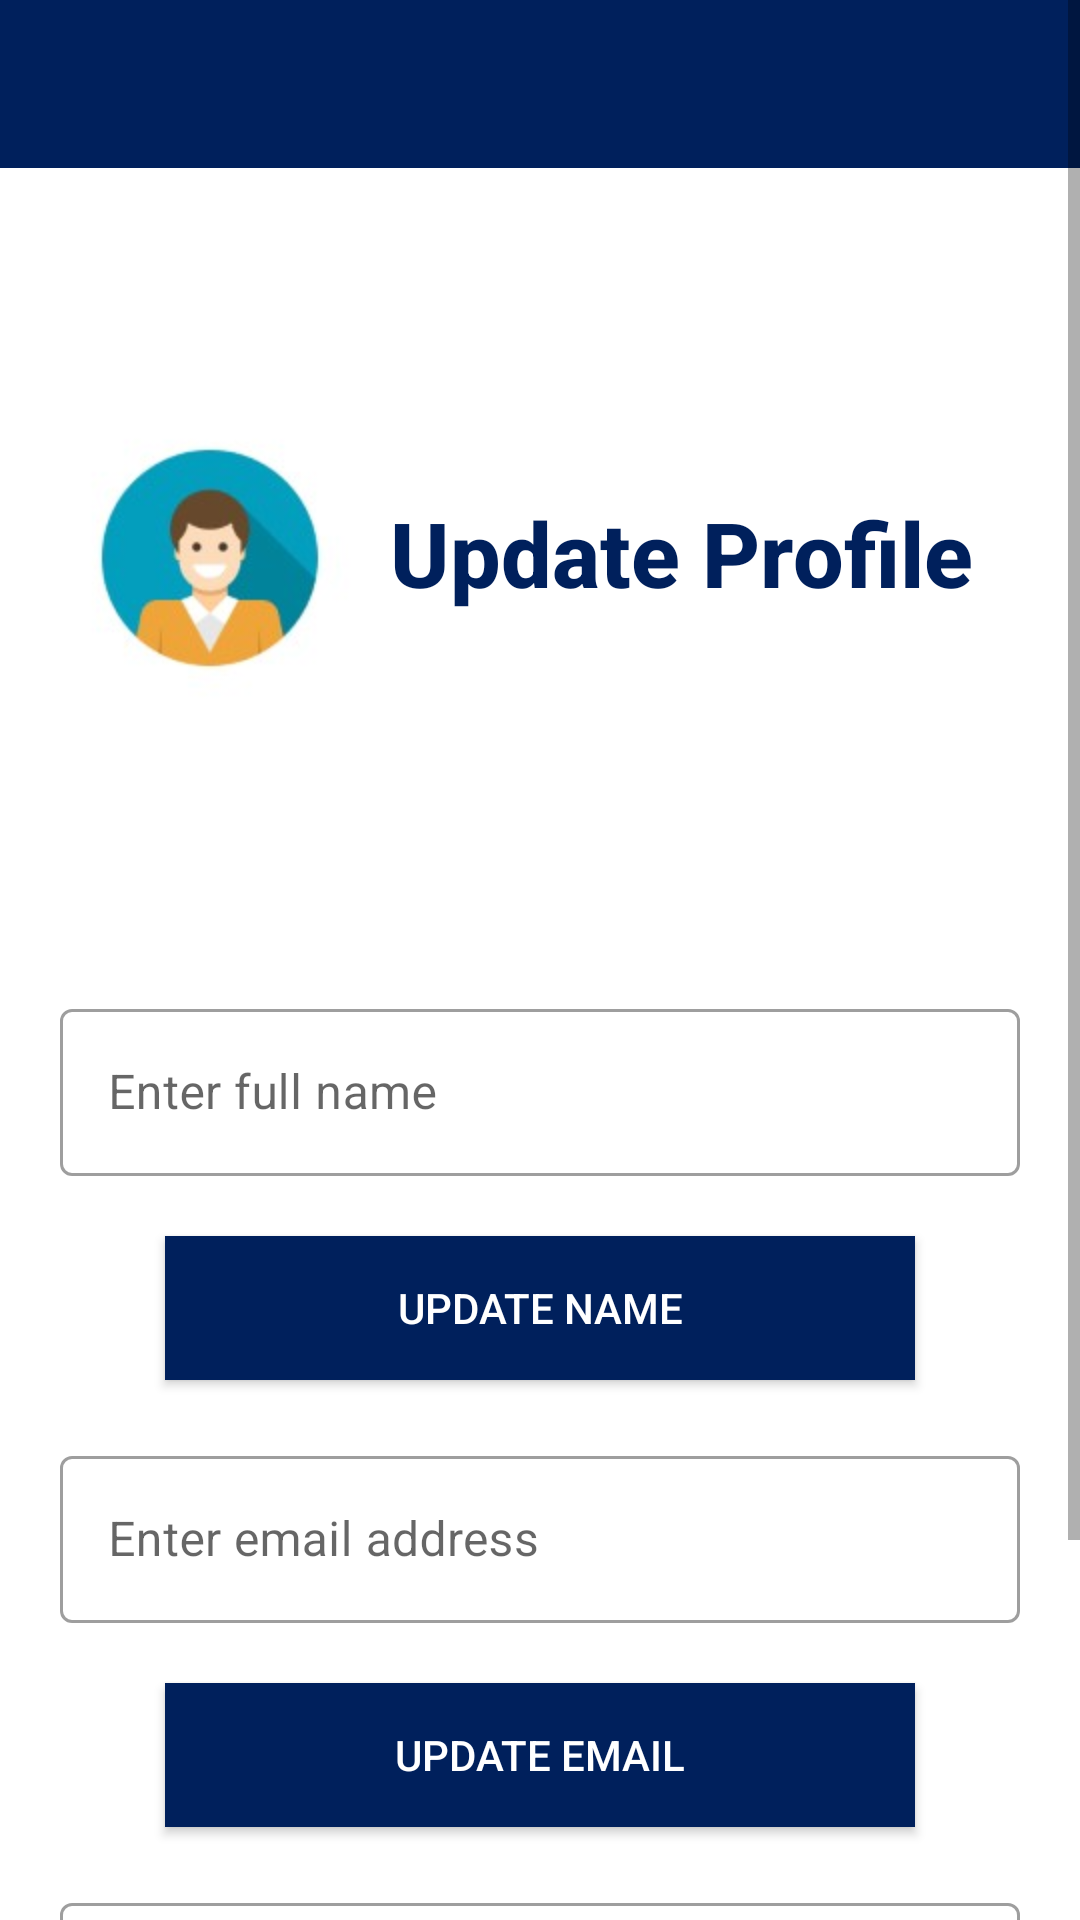

Locate icon controls on the screen. Image size 1080 × 1920, boxes as (x1, y1, x2, y2).
user: (100, 448, 321, 669)
